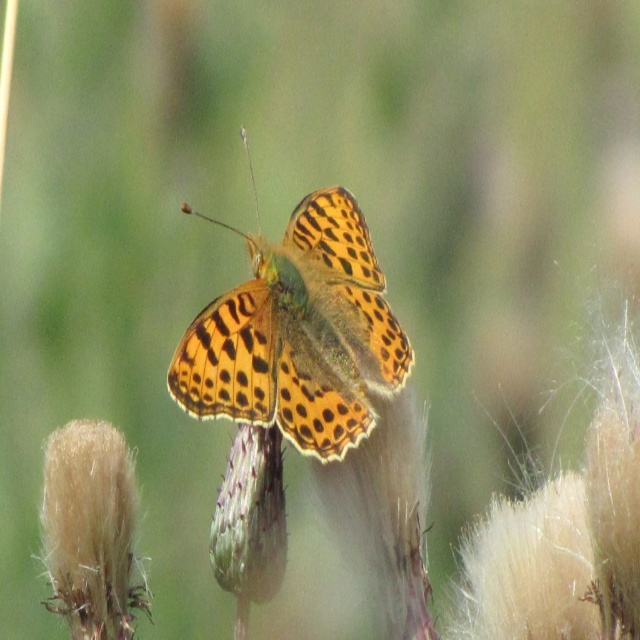Butterfly: (163, 118, 416, 511)
